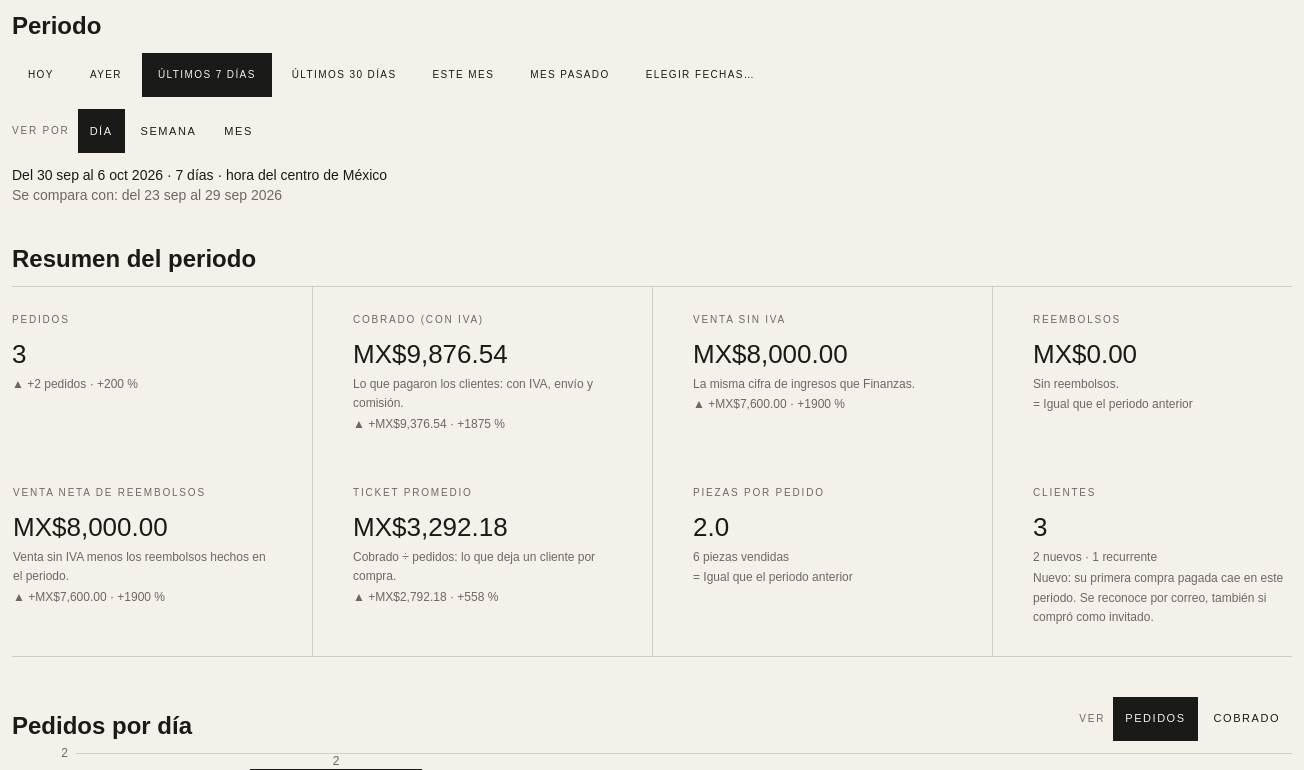
Test: UX-AN-7 · rango a mano: se valida antes de mandar; el `400` va bajo su campo › falta una ⇒ su texto y NINGUNA petición
Expected: the element with test id "sales-period-label" is shown, [12,167,387,203]
Click the button "Elegir fechas…" at coordinates (700, 75), box [630,53,771,97]
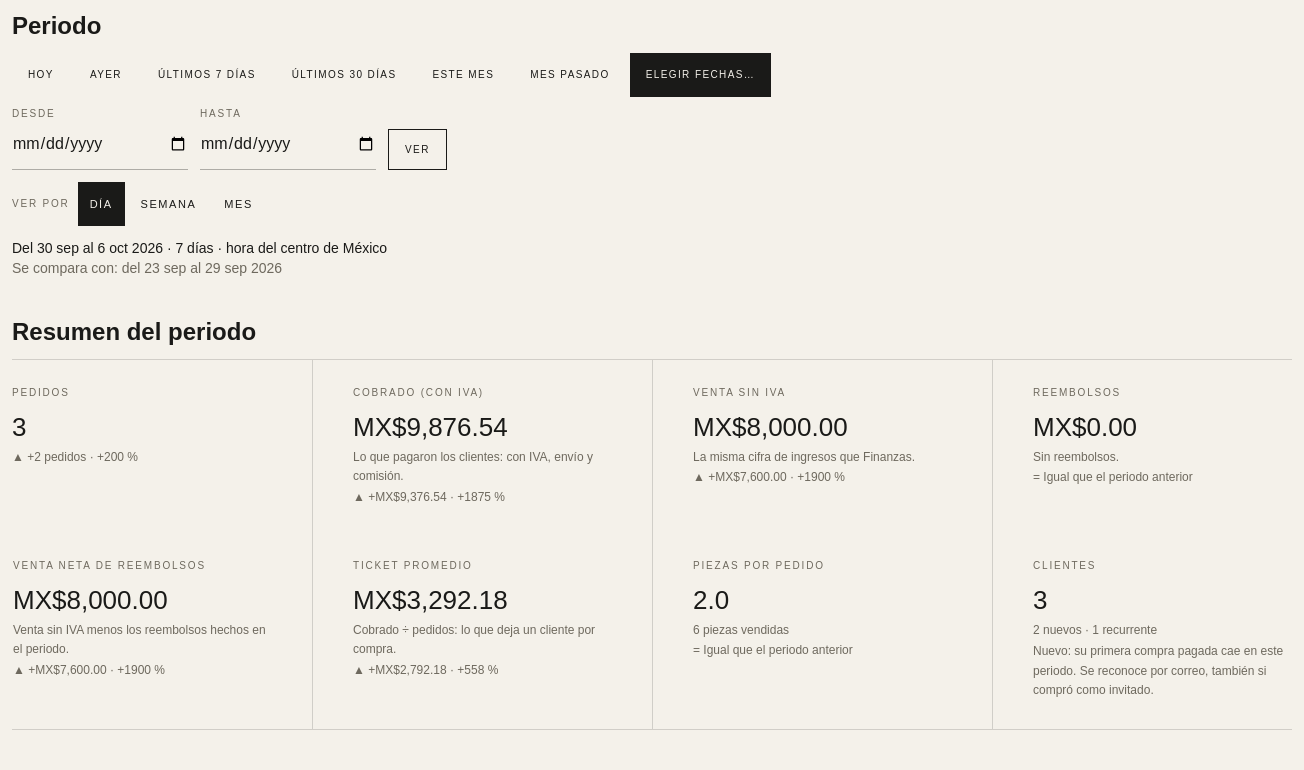
Type "2026-09-01" into the date field labelled "Desde" at coordinates (100, 144), box [12,131,188,157]
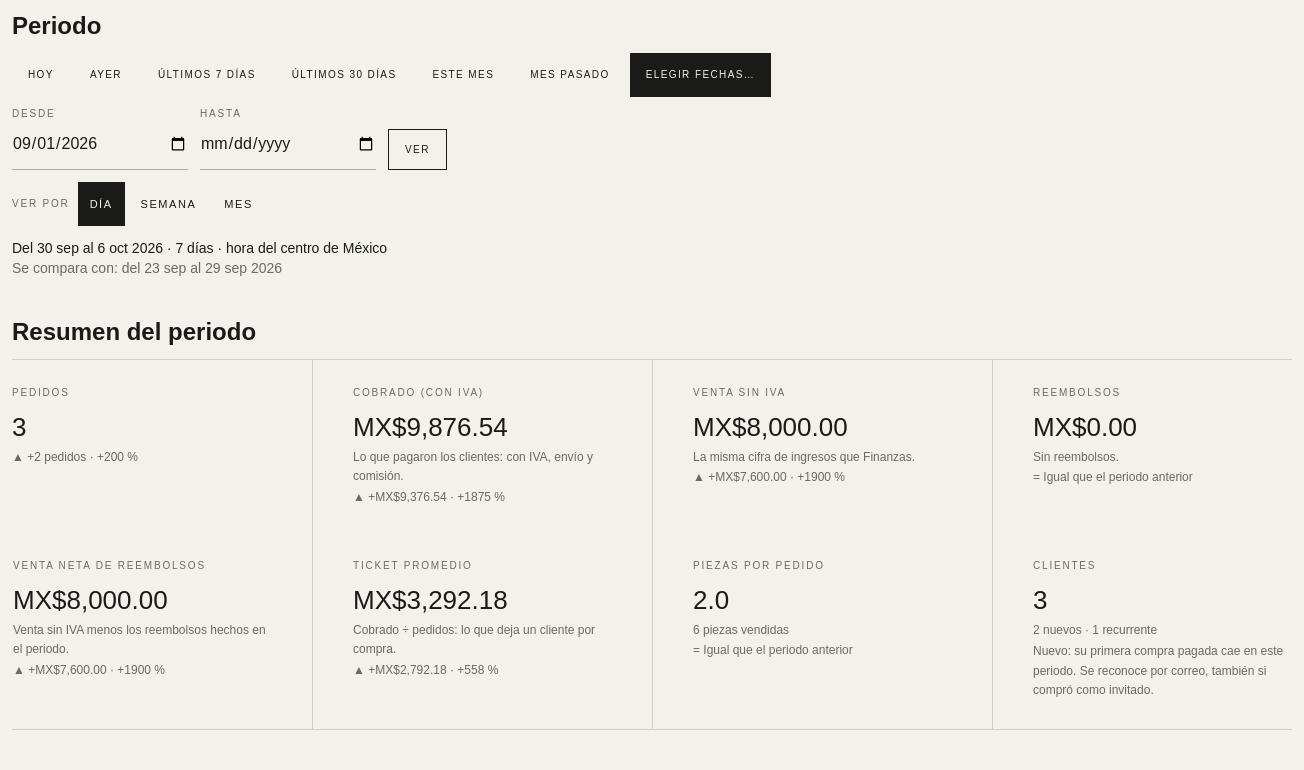
Click the button "Ver" at coordinates (417, 149), box [388,129,447,170]
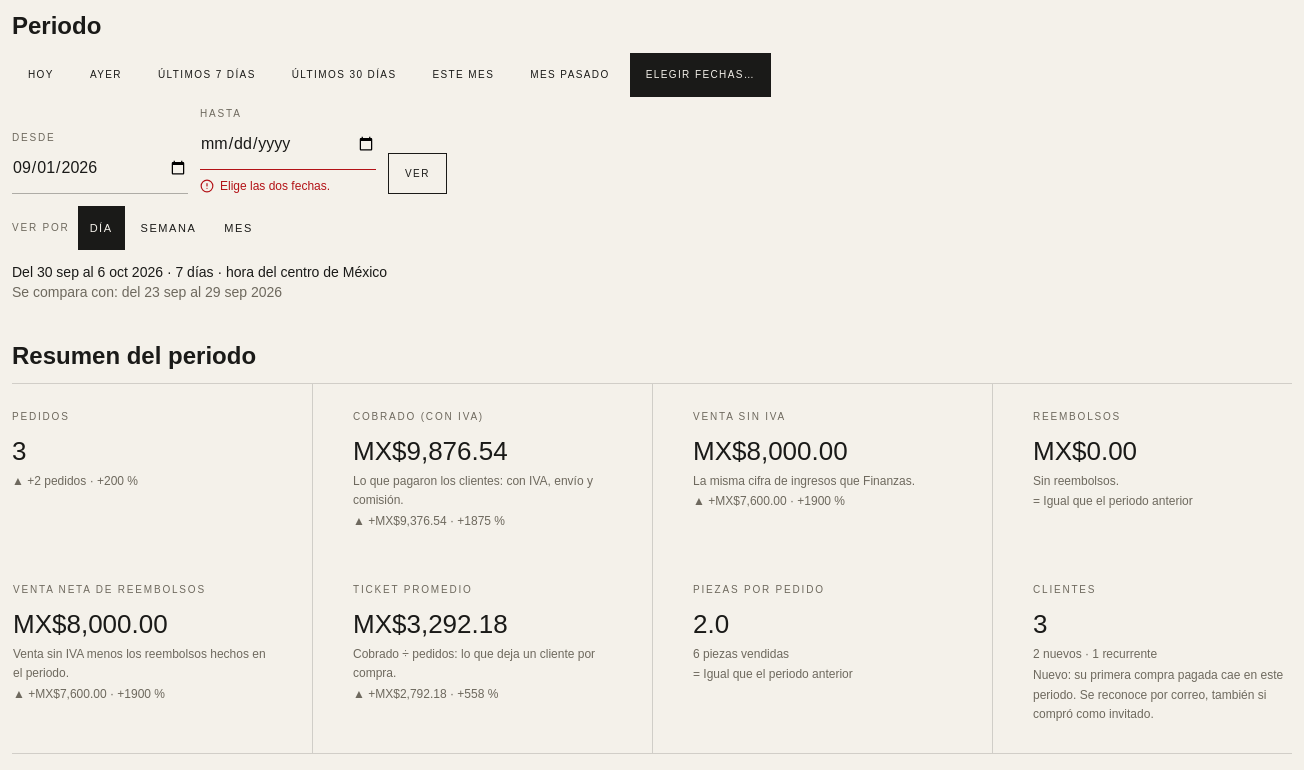
Expected: the text "Elige las dos fechas." is shown, [200,179,330,193]
